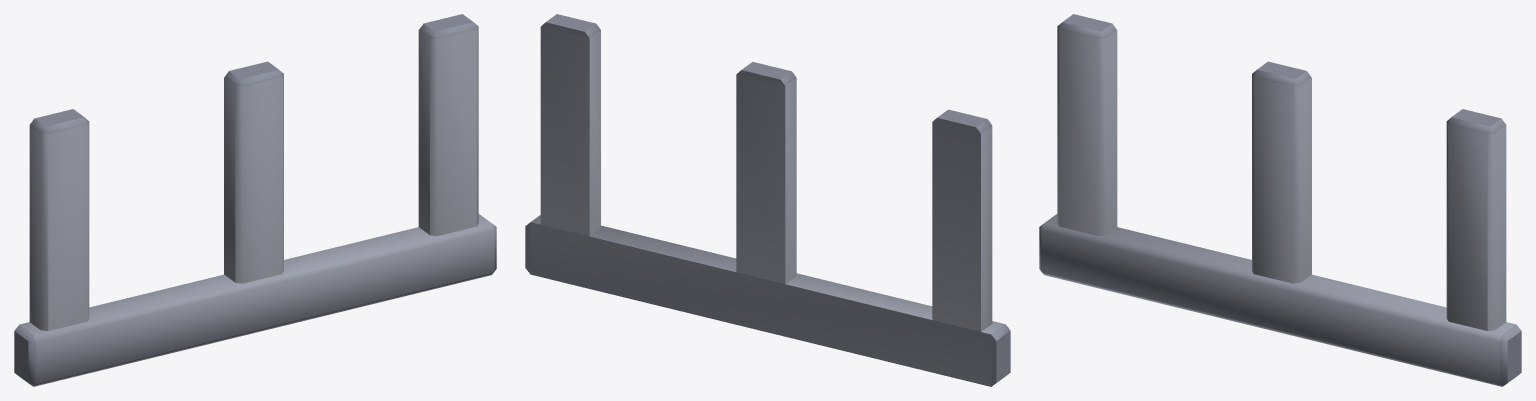
The model's file is wall-shelf-bakery-c.glb.
3 renders of one model, left to right at view 1: azimuth 30°, elevation 25°; view 2: azimuth 150°, elevation 25°; view 3: azimuth 330°, elevation 25°, orthographic.
Parts seen in each view (by area): view 1: wall_shelf_bakery_C; view 2: wall_shelf_bakery_C; view 3: wall_shelf_bakery_C.
Boxes of the visible parts, box(x1,y1,x2,y2) form: wall_shelf_bakery_C: box(14, 14, 496, 386); wall_shelf_bakery_C: box(525, 14, 1010, 386); wall_shelf_bakery_C: box(1039, 14, 1521, 386).
Bounding box in the file's own units: 1.93 × 1 × 0.12.
Materials: 1 (1 with a texture image).
